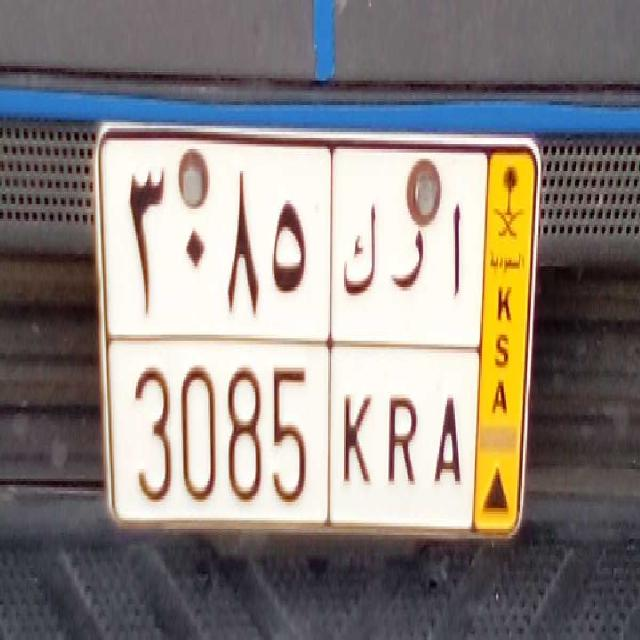license_plate: (104, 336, 477, 537)
